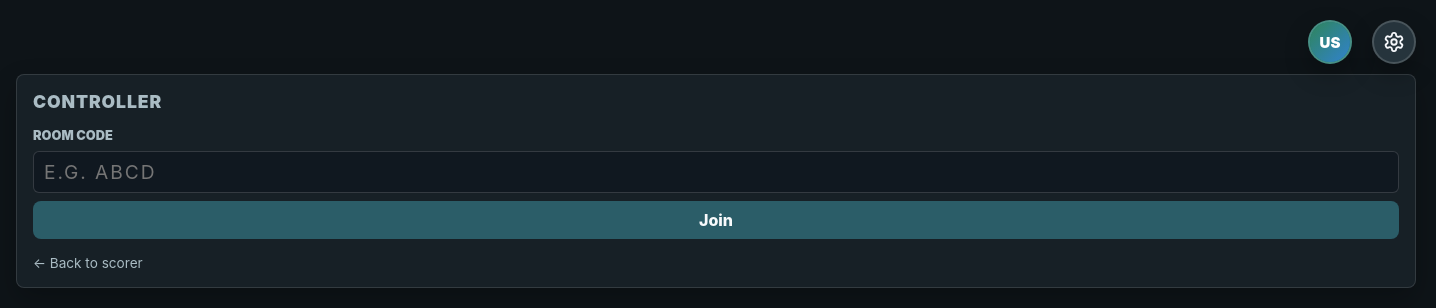
ControllerPage › disconnected state › hides match and session actions from the controller settings menu
Click the button named "settings menu": (1394, 42) [1372,20,1416,64]
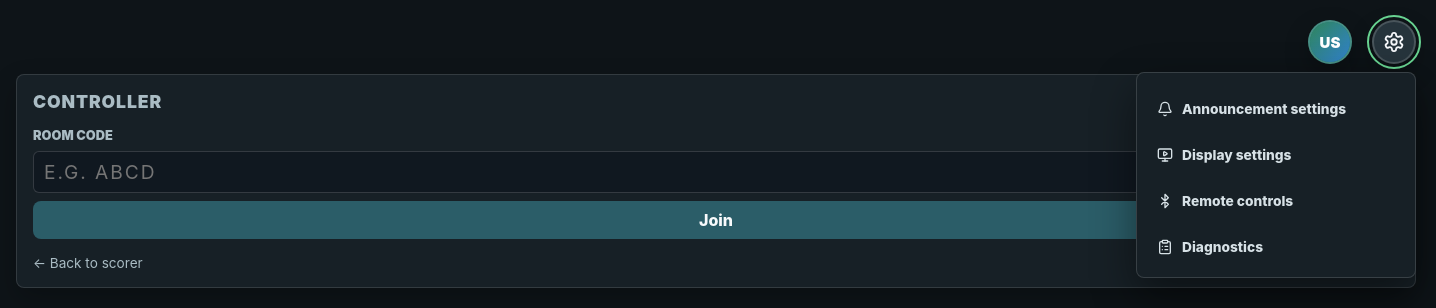
Now the menu item "Announcement settings" is shown, box [1147,89,1405,129]
